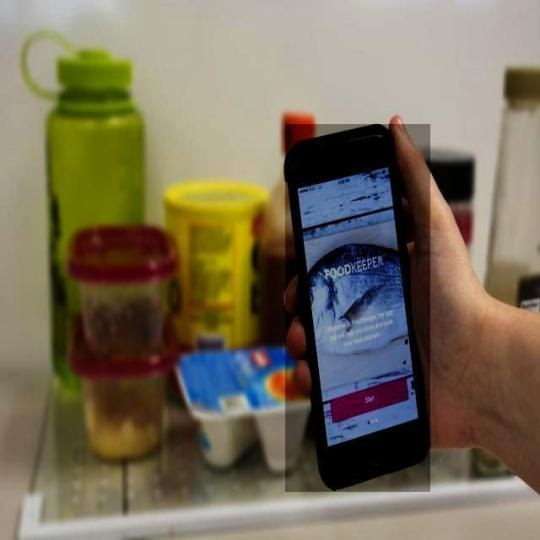phone: (282, 124, 429, 490)
